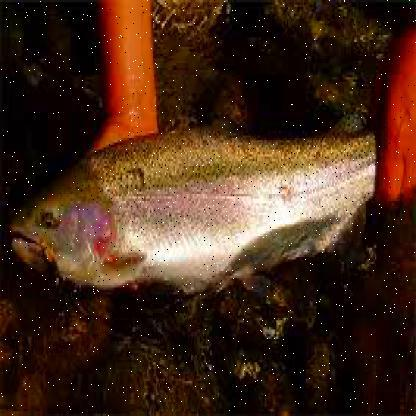fish: (8, 112, 414, 292)
